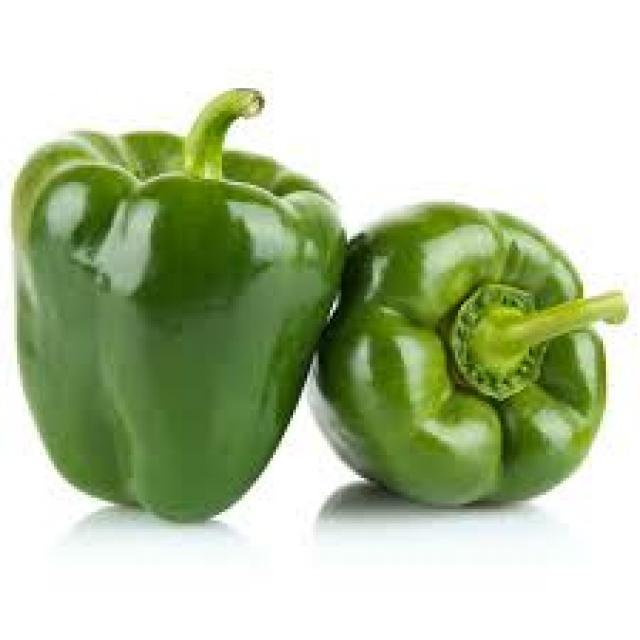Pepper: (10, 88, 350, 527), (313, 203, 628, 511)
